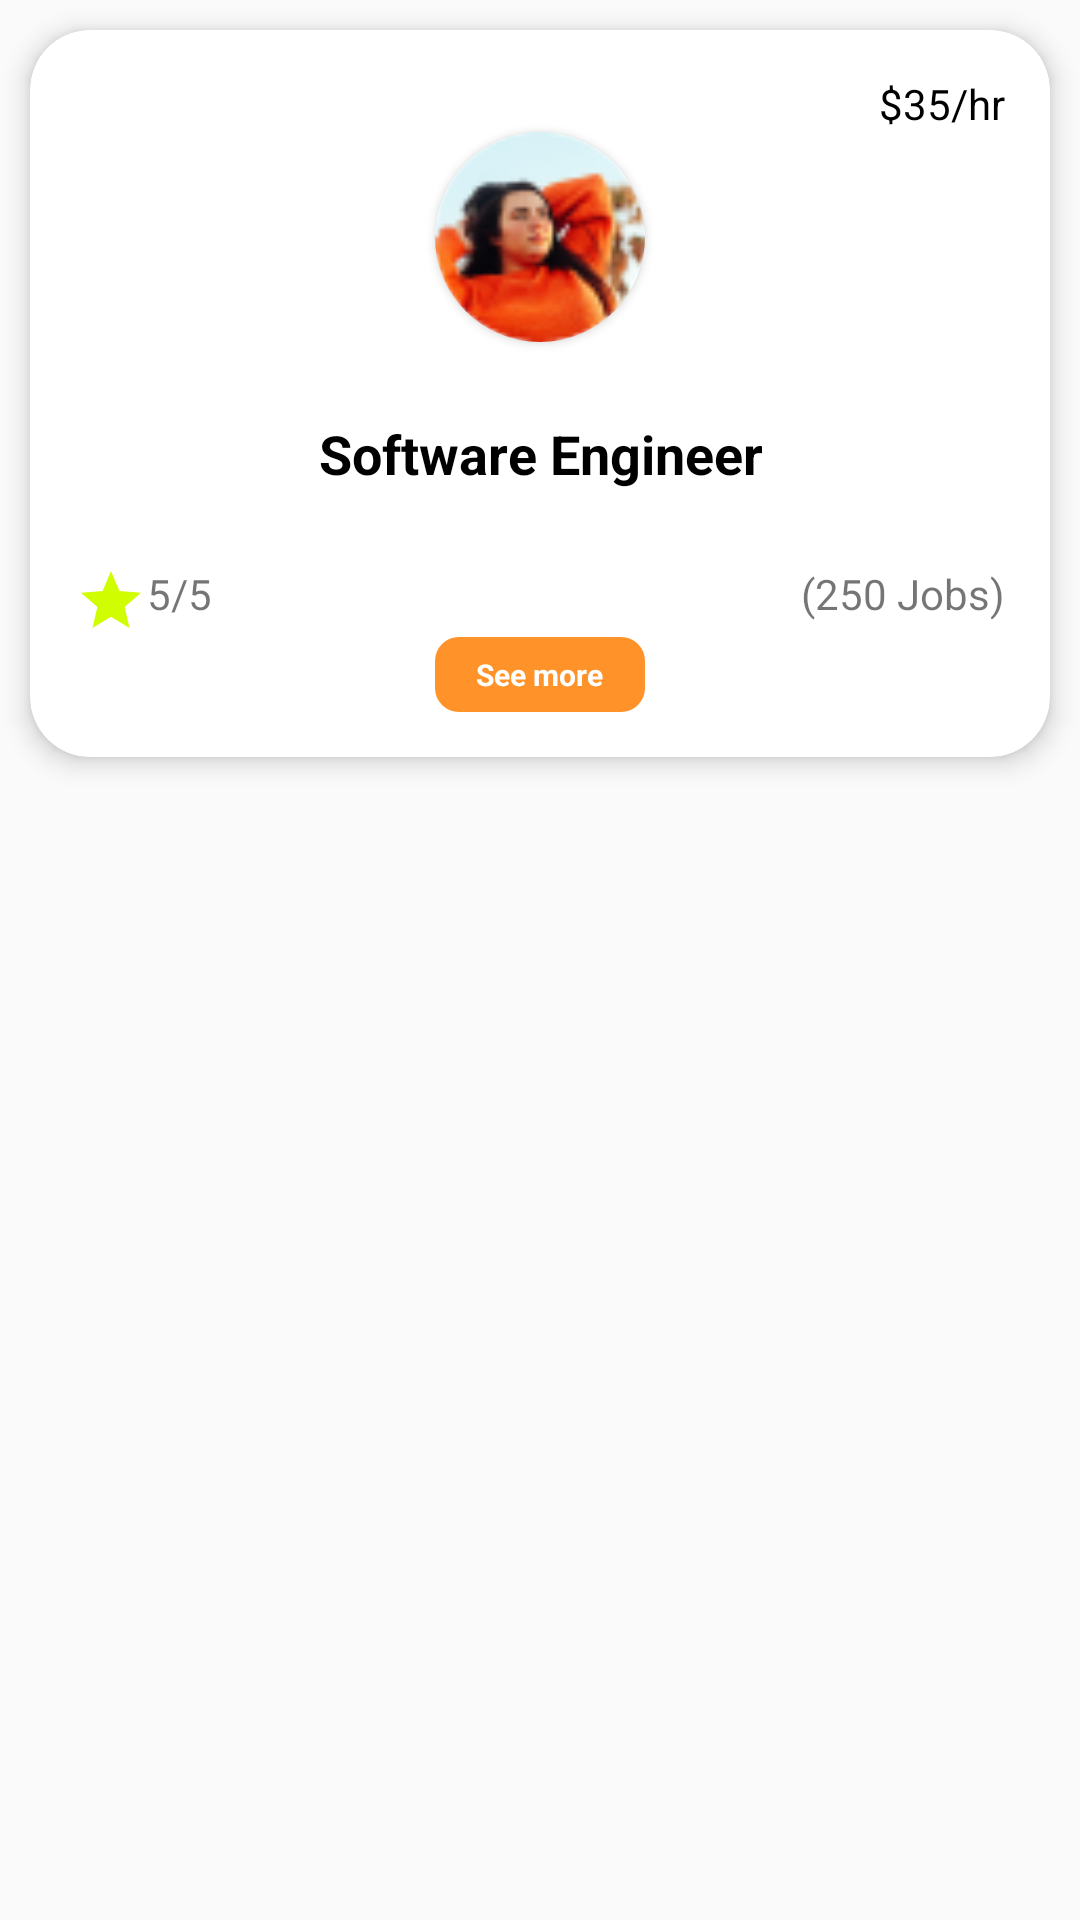

Screen size 1080×1920. Icon name, then its box in pixels as (x1, y1, x2, y2):
profile demo: (435, 132, 645, 342)
rating star: (81, 571, 141, 628)
